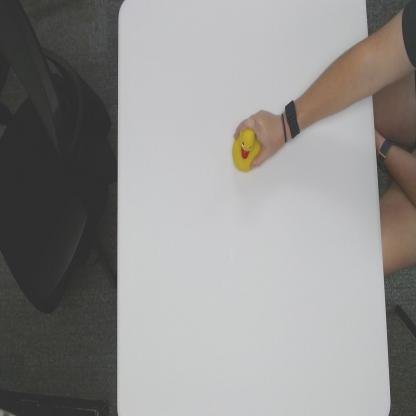Arm: (302, 41, 372, 132)
Duck: (231, 126, 262, 172)
Hand: (234, 106, 286, 170)
